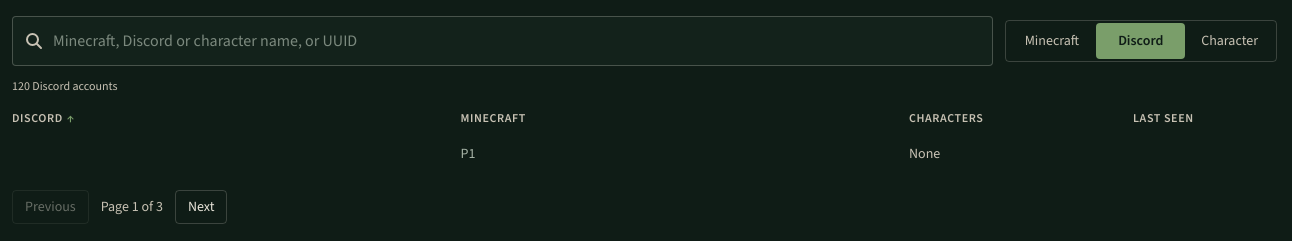
Test case: pages through results
This screenshot has width=1292, height=241.
Expected: the text "Page 1 of 3" is shown, [101, 197, 163, 217]
What coordinates should you click on to do the following:
click the button "Next"
I would click on:
 (201, 207)
Its box is [175, 190, 227, 224].
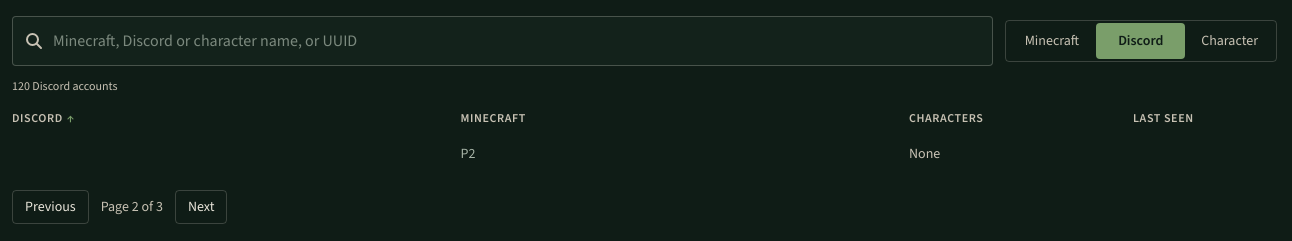
Now the text "Page 2 of 3" is shown, box [101, 197, 163, 217]
